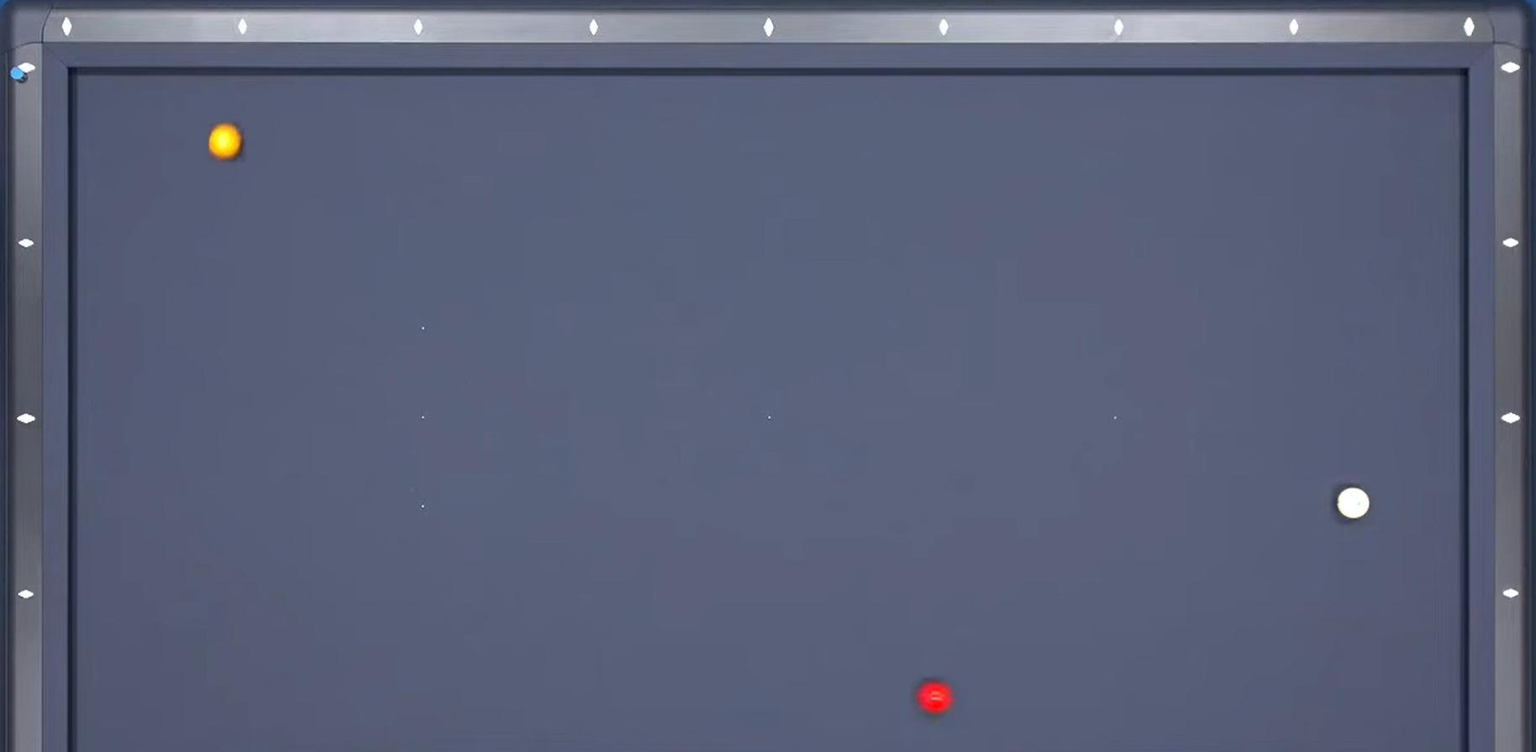red ball: (913, 675, 955, 719)
white ball: (1336, 484, 1373, 522)
yellow ball: (204, 120, 245, 161)
